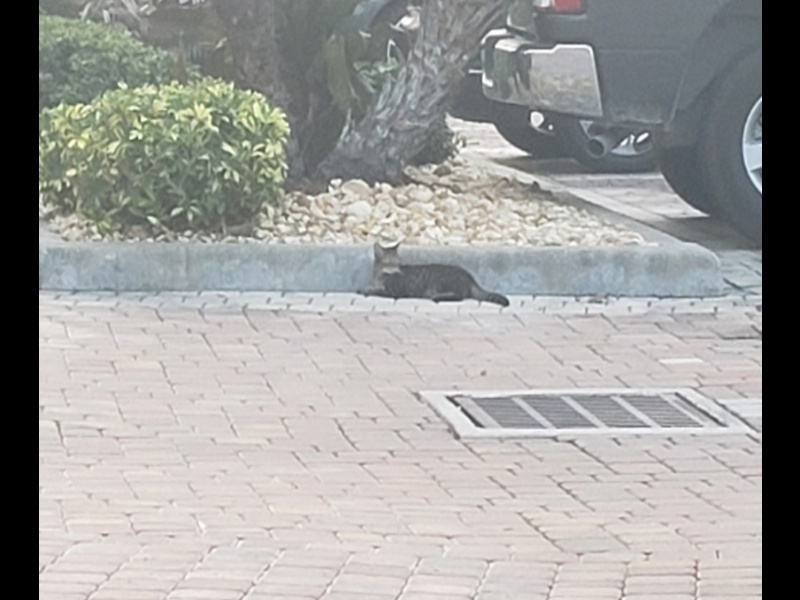cat: (352, 242, 518, 309)
